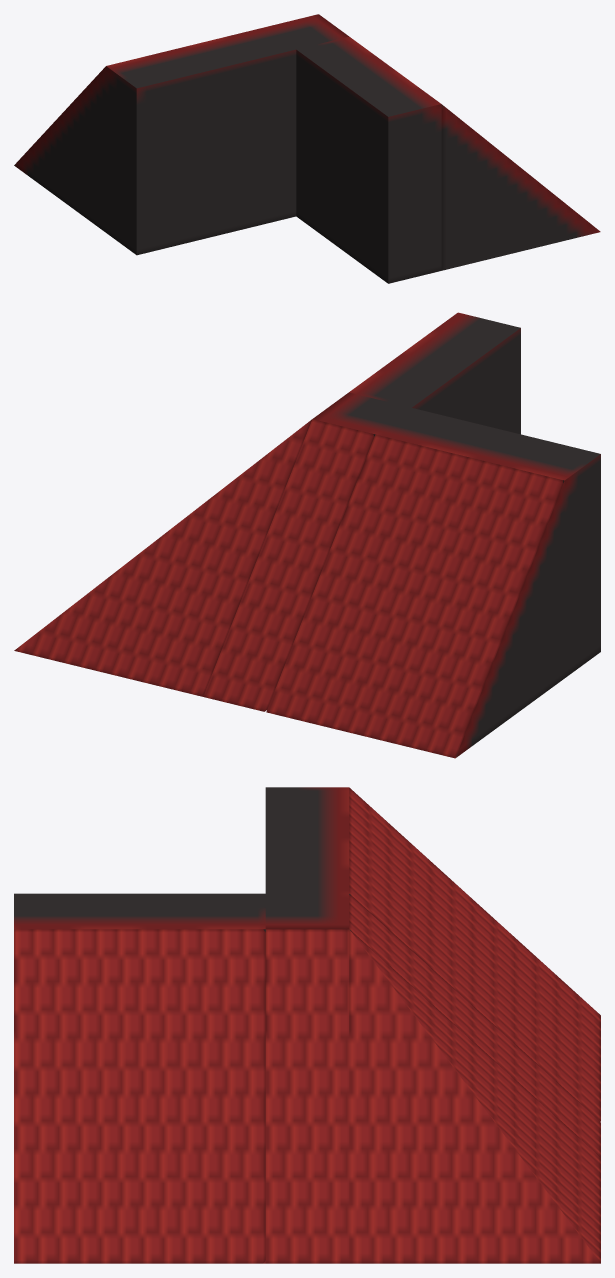
Rendered from Roof_Corner_2.fbx.
The picture shows the model from 3 angles, top to bottom: view 1: azimuth 30°, elevation 25°; view 2: azimuth 150°, elevation 25°; view 3: azimuth 270°, elevation 25°; orthographic projection. The views are drawn at different scales.
Visible parts, largest first — view 1: Roof_Corner_2; view 2: Roof_Corner_2; view 3: Roof_Corner_2.
Boxes of the visible parts, x1=… form: Roof_Corner_2: x1=14, y1=14, x2=600, y2=283; Roof_Corner_2: x1=14, y1=312, x2=600, y2=758; Roof_Corner_2: x1=14, y1=787, x2=600, y2=1263.
Bounding box in the file's own units: 700 × 300 × 700.
Materials: 1 (1 with a texture image).
